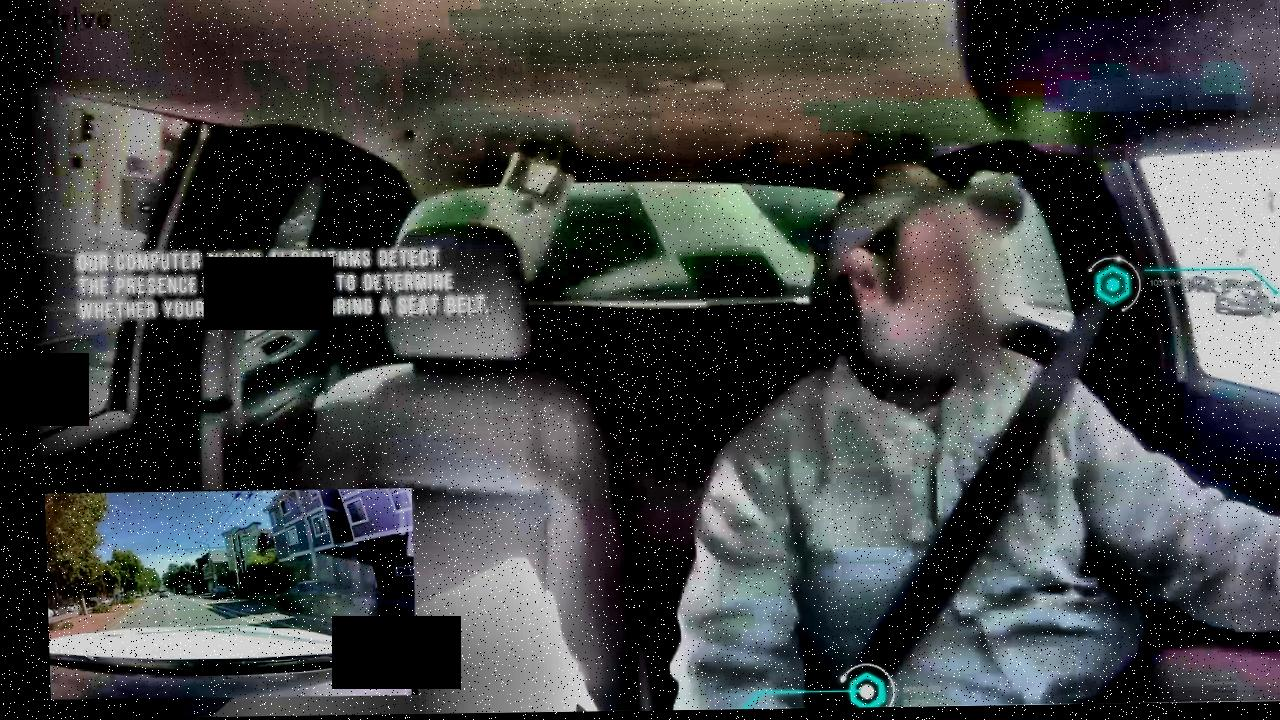seatbelt: (815, 253, 1179, 705)
